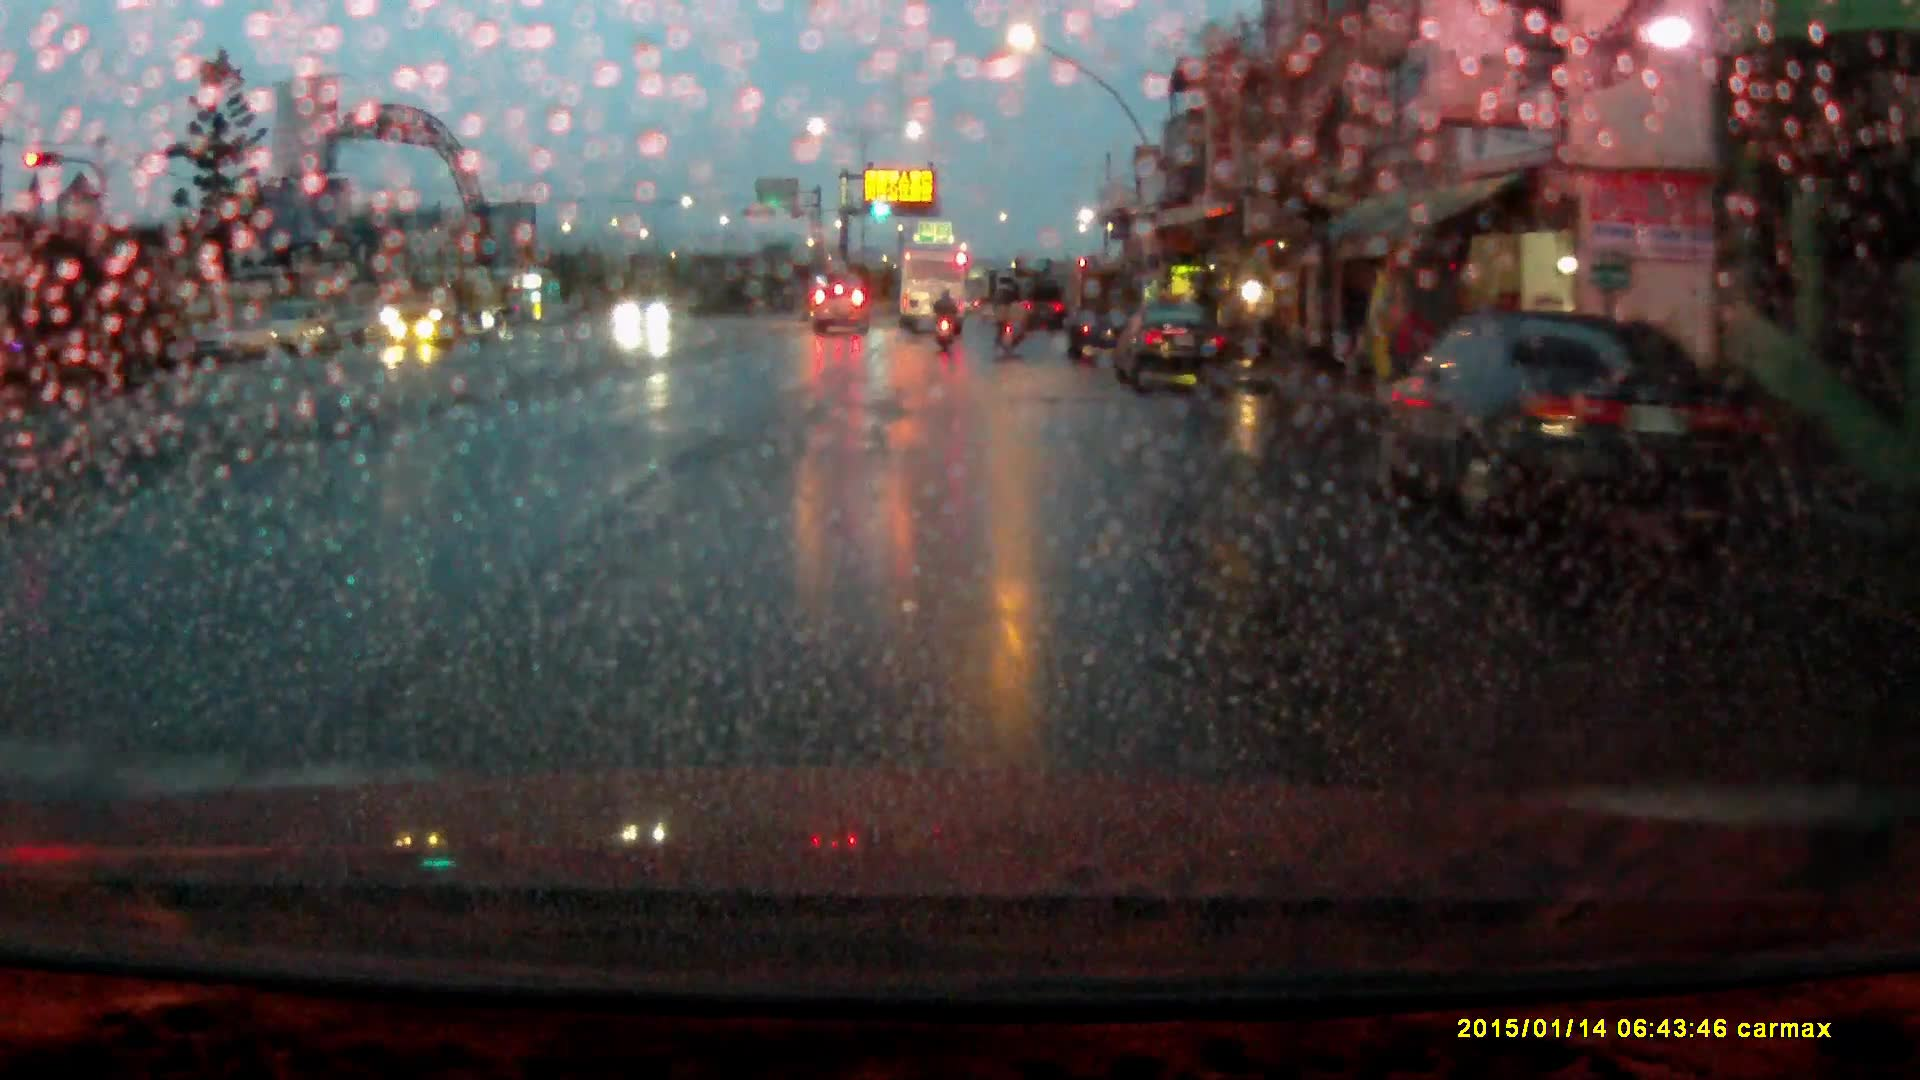rider: (990, 276, 1024, 358), (932, 288, 961, 351)
vehicle: (1377, 314, 1742, 553), (376, 264, 516, 344), (1117, 306, 1232, 391), (1065, 265, 1145, 363), (898, 245, 970, 333), (193, 311, 274, 364), (1010, 259, 1069, 330), (810, 281, 874, 337), (266, 301, 338, 351), (620, 293, 675, 329)
